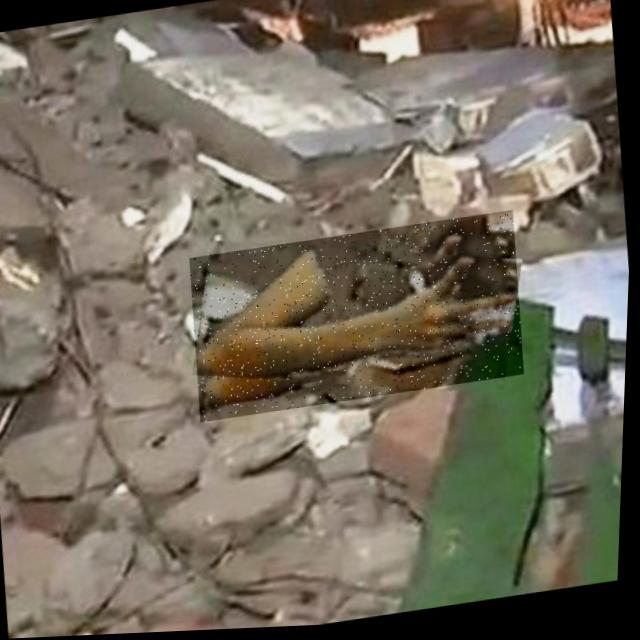Person in Rubble: (186, 214, 532, 425)
